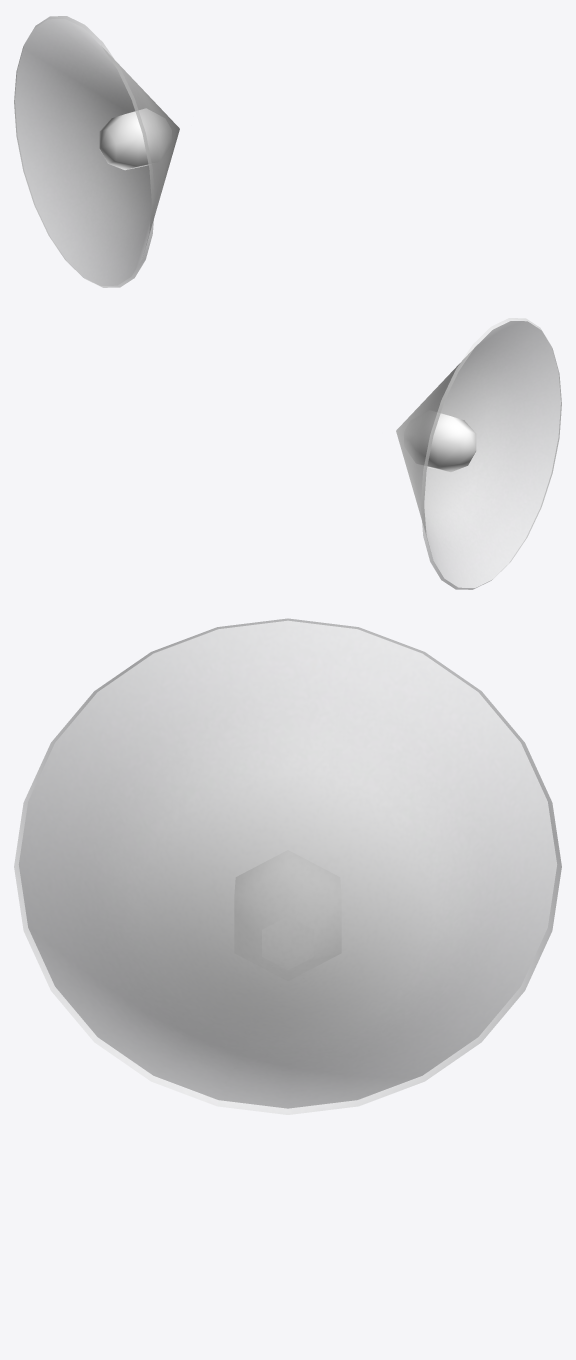
The model's file is props_lights_light_cone_farm.glb.
3 renders of one model, top to bottom at view 1: azimuth 30°, elevation 25°; view 2: azimuth 150°, elevation 25°; view 3: azimuth 270°, elevation 25°, orthographic. The views are drawn at different scales.
Parts seen in each view (by area): view 1: models/props_lights/light_cone_farm; view 2: models/props_lights/light_cone_farm; view 3: models/props_lights/light_cone_farm.
Part boxes in pixels (x1,y1,x2,y2): models/props_lights/light_cone_farm: (14,16,179,287); models/props_lights/light_cone_farm: (396,318,561,589); models/props_lights/light_cone_farm: (14,618,561,1114).
Size of the model in its own units: 61.87 by 32 by 32.
Materials: 1 (1 with a texture image).
